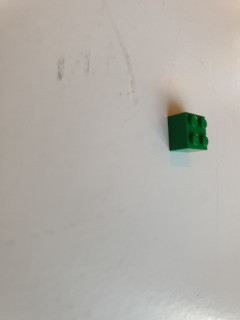2x2 green: (167, 111, 209, 153)
